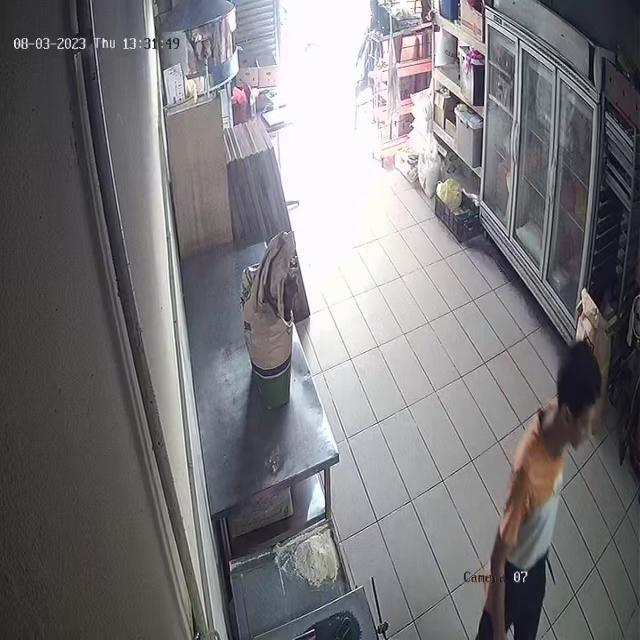Knife: (545, 551, 564, 590)
